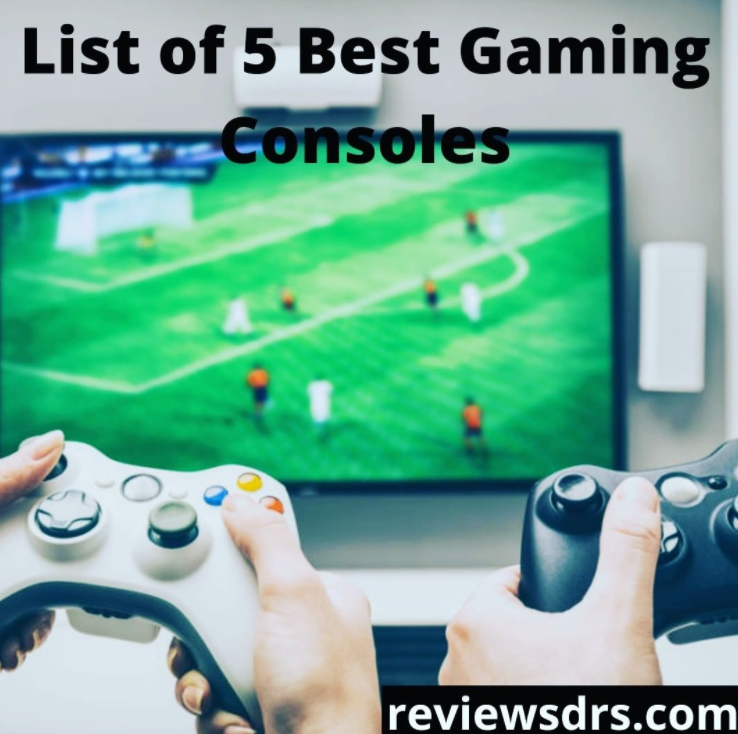gamingconsole: (1, 435, 306, 713), (525, 439, 738, 632)
